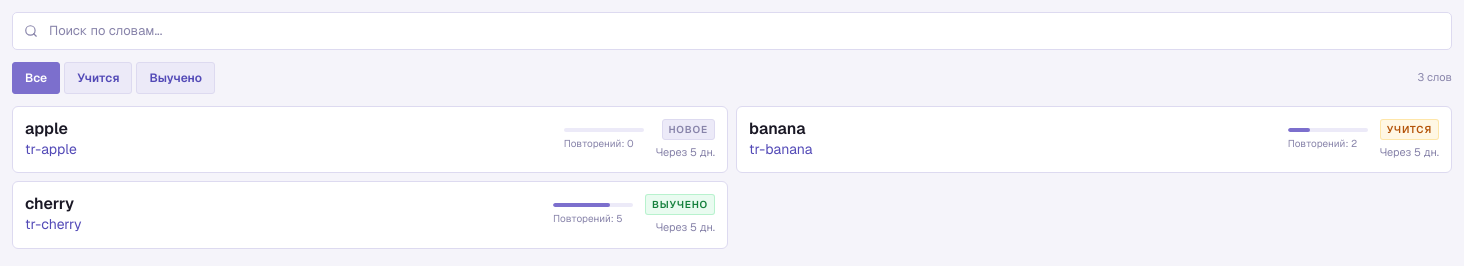
Test: VocabList › filters items by search query
Type "apple" into the field with placeholder "Поиск по словам..." at (732, 31), box [12,12,1452,50]
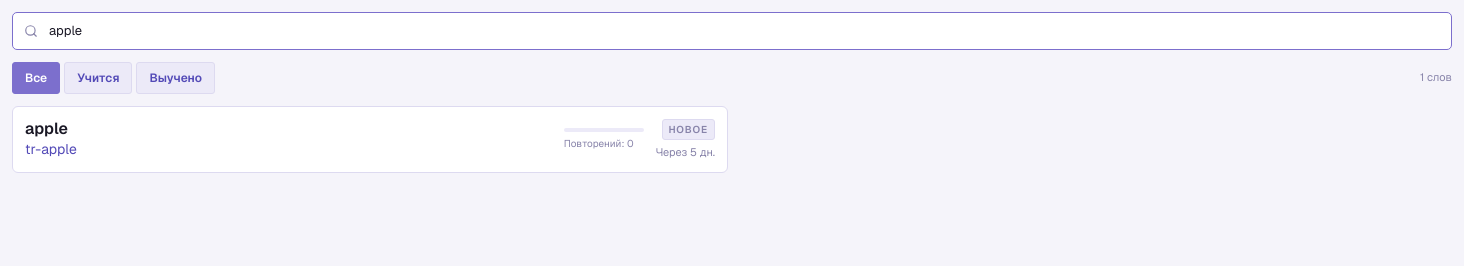
Expected: the text "apple" is shown, [25,118,68,139]
Now the text "banana" is gone
